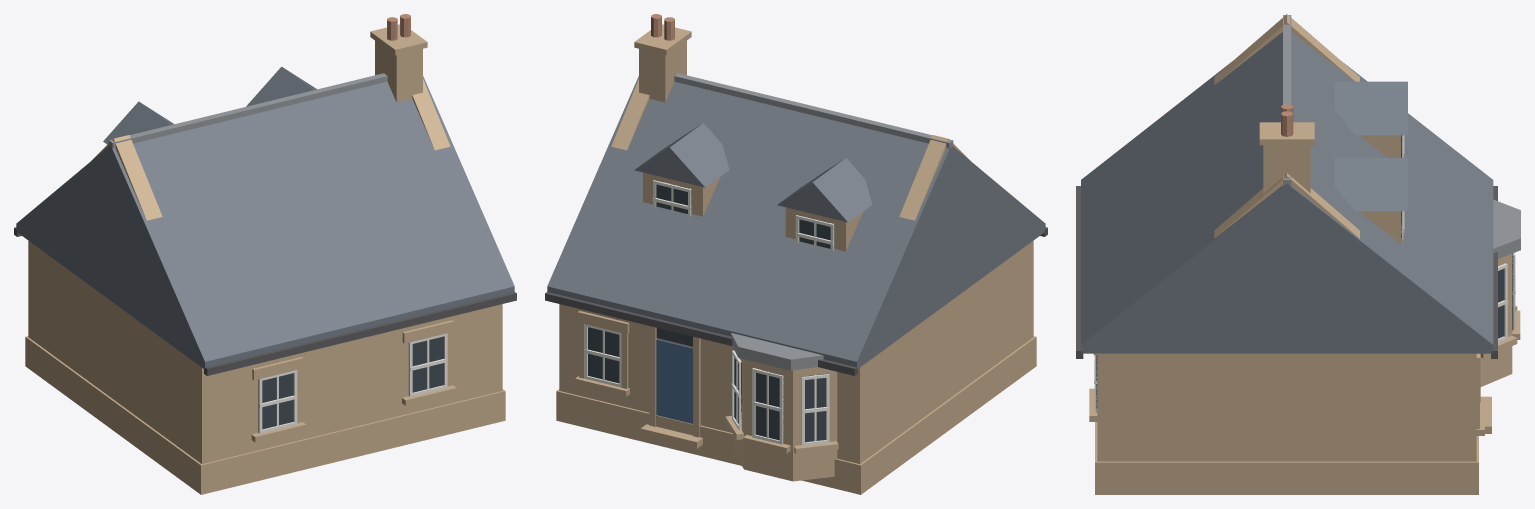
Rendered from bungalow.glb.
3 renders of one model, left to right at view 1: azimuth 30°, elevation 25°; view 2: azimuth 150°, elevation 25°; view 3: azimuth 270°, elevation 25°, orthographic. The views are drawn at different scales.
Parts seen in each view (by area): view 1: bungalow; view 2: bungalow; view 3: bungalow.
Boxes of the visible parts, x1,y1,x2,y2 form: bungalow: (14, 14, 516, 494); bungalow: (545, 14, 1047, 494); bungalow: (1076, 14, 1520, 494).
Size of the model in its own units: 8.24 by 8.72 by 9.38.
